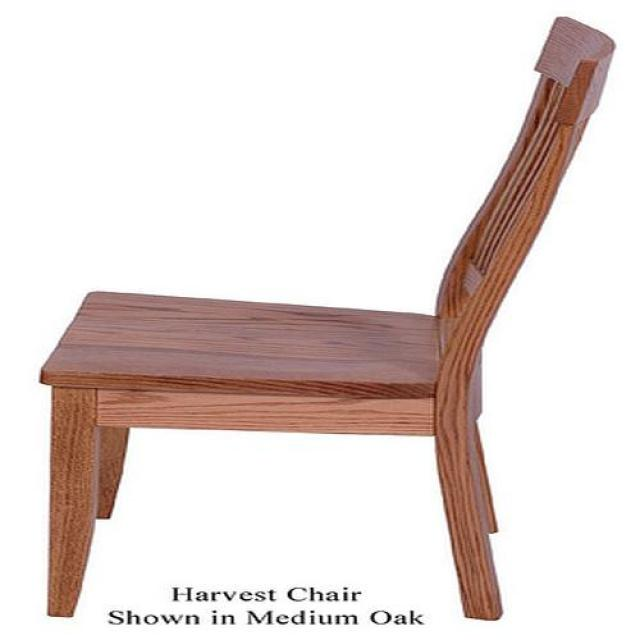chair: (38, 17, 617, 623)
